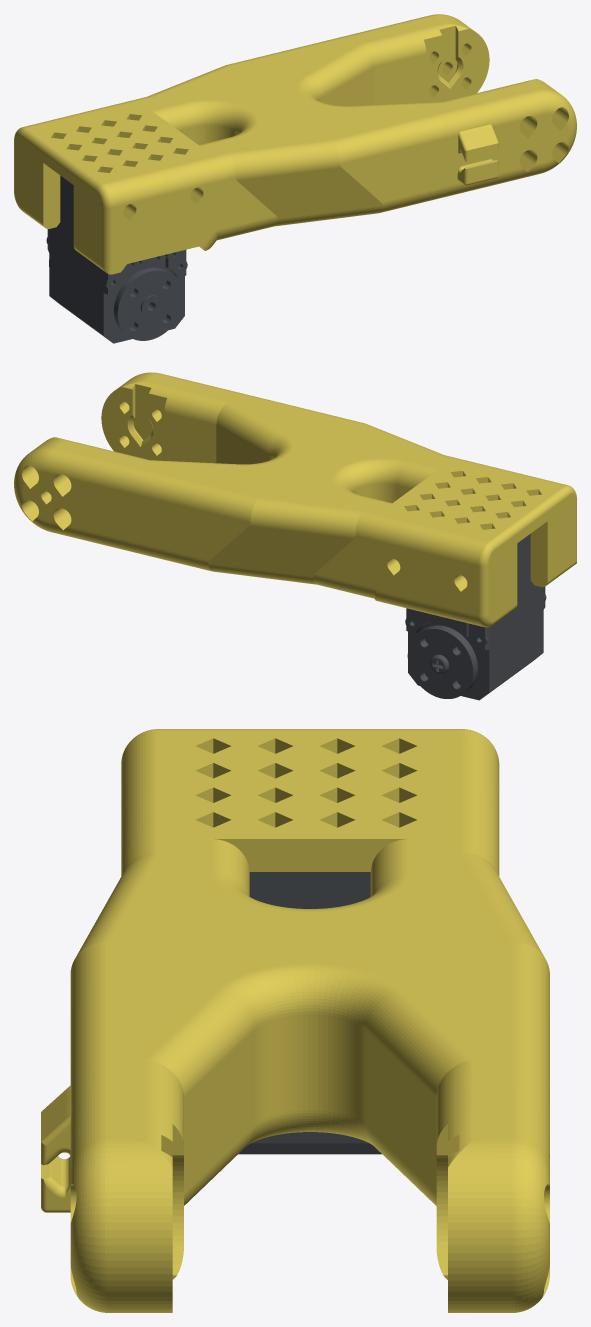
The model's file is upper_arm_link.glb.
The picture shows the model from 3 angles, top to bottom: view 1: azimuth 30°, elevation 25°; view 2: azimuth 150°, elevation 25°; view 3: azimuth 270°, elevation 25°; orthographic projection. The views are drawn at different scales.
Visible parts, largest first — view 1: upper_arm_link_1, upper_arm_link_0; view 2: upper_arm_link_1, upper_arm_link_0; view 3: upper_arm_link_1, upper_arm_link_0.
Part boxes in pixels (left/top/right/bottom): upper_arm_link_1: left=14, top=14, right=576, bottom=274; upper_arm_link_0: left=46, top=175, right=187, bottom=343; upper_arm_link_1: left=14, top=372, right=576, bottom=627; upper_arm_link_0: left=405, top=534, right=546, bottom=700; upper_arm_link_1: left=41, top=729, right=549, bottom=1312; upper_arm_link_0: left=238, top=872, right=381, bottom=1154.
Size of the model in its own units: 0.1422 by 0.0502 by 0.0673.
